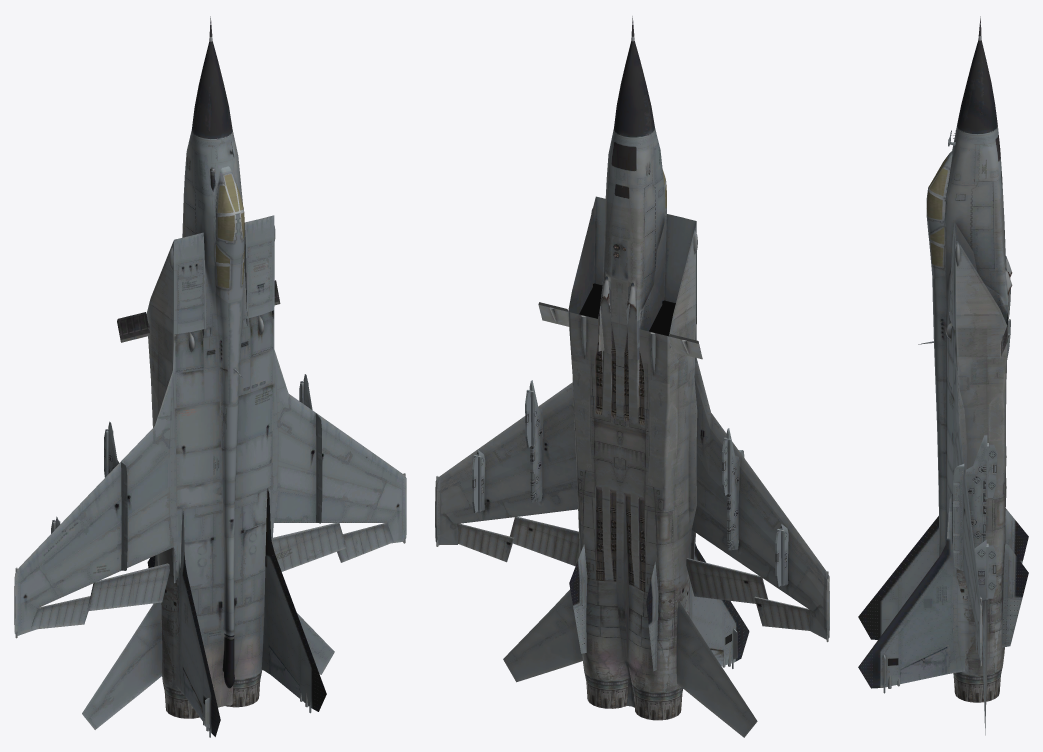
The model's file is Mig-25_Foxbat.obj.
The picture shows the model from 3 angles, left to right: view 1: azimuth 30°, elevation 25°; view 2: azimuth 150°, elevation 25°; view 3: azimuth 270°, elevation 25°; orthographic projection. The views are drawn at different scales.
Parts seen in each view (by area): view 1: LOD0, ElevatorL01, FlapL01, FlapR01, AileronL01, AileronR01, Glass, Canopy02, Canopy01, ElevatorR01, IntakeL01, RudderR01; view 2: LOD0, ElevatorL01, ElevatorR01, FlapL01, FlapR01, AileronL01, AileronR01; view 3: LOD0, RudderR01, Glass, ElevatorR01, Canopy01, Glass_Canopy01, Canopy02.
Part boxes in pixels (x1,y1,x2,y2): LOD0: (14,16,406,737); ElevatorL01: (82,602,162,729); FlapL01: (87,563,169,611); FlapR01: (272,523,346,571); AileronL01: (31,596,90,629); AileronR01: (337,523,393,562); Glass: (216,174,244,263); Canopy02: (214,260,244,303); Canopy01: (213,210,244,259); ElevatorR01: (297,613,334,674); IntakeL01: (117,312,150,342); RudderR01: (269,646,300,698); LOD0: (435,16,829,720); ElevatorL01: (676,600,757,737); ElevatorR01: (503,589,582,682); FlapL01: (686,558,767,603); FlapR01: (510,517,579,566); AileronL01: (754,596,810,630); AileronR01: (457,523,514,562); LOD0: (858,16,1028,702); RudderR01: (900,646,947,684); Glass: (929,157,947,244); ElevatorR01: (983,599,987,735); Canopy01: (926,187,947,234); Glass_Canopy01: (926,191,942,219); Canopy02: (929,239,946,278).
Size of the model in its own units: 13.03 by 21.94 by 5.07.
4 materials, 4 textured.
